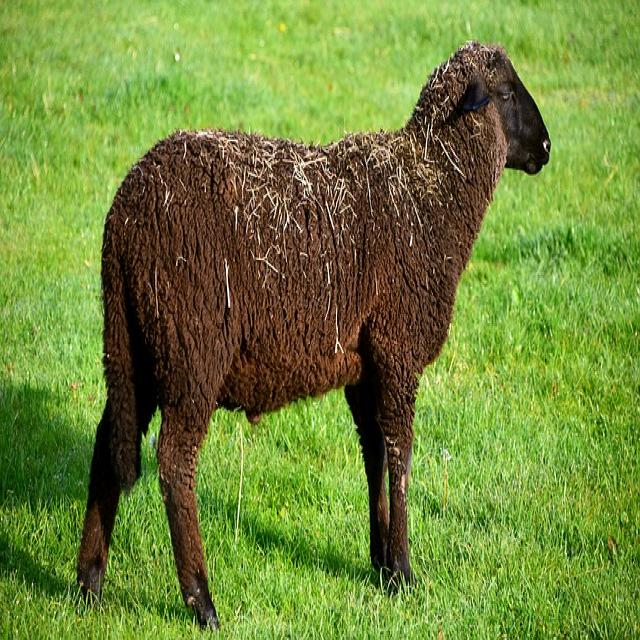goat: (76, 42, 553, 631)
